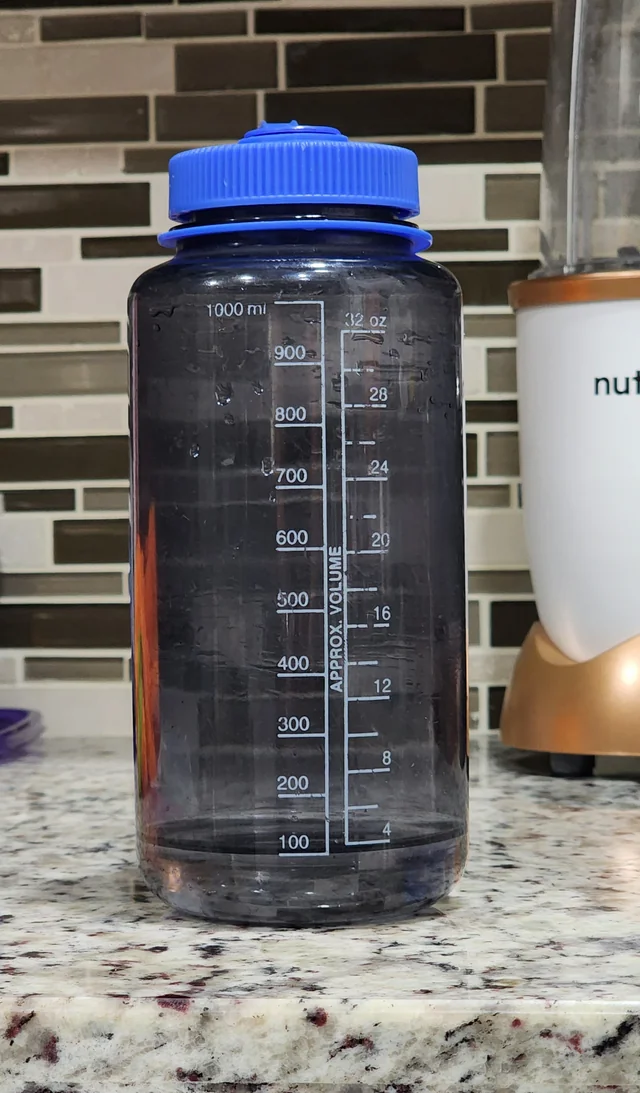bottle: (124, 119, 472, 928)
